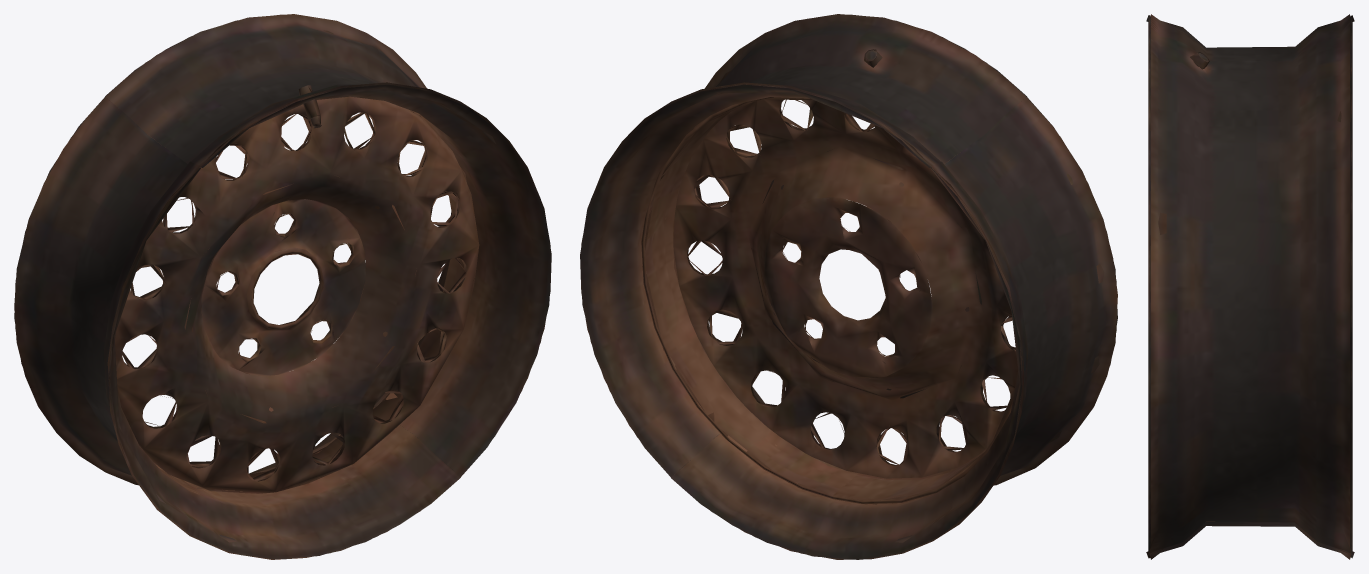
Rendered from wheel_rim.glb.
The picture shows the model from 3 angles, left to right: view 1: azimuth 30°, elevation 25°; view 2: azimuth 150°, elevation 25°; view 3: azimuth 270°, elevation 25°; orthographic projection. The views are drawn at different scales.
Visible parts, largest first — view 1: wheel_rim; view 2: wheel_rim; view 3: wheel_rim.
Boxes of the visible parts, x1,y1,x2,y2 form: wheel_rim: (14,14,551,559); wheel_rim: (580,14,1117,559); wheel_rim: (1146,14,1354,559).
Bounding box in the file's own units: 0.4036 × 0.4036 × 0.1541.
Materials: 1 (1 with a texture image).
